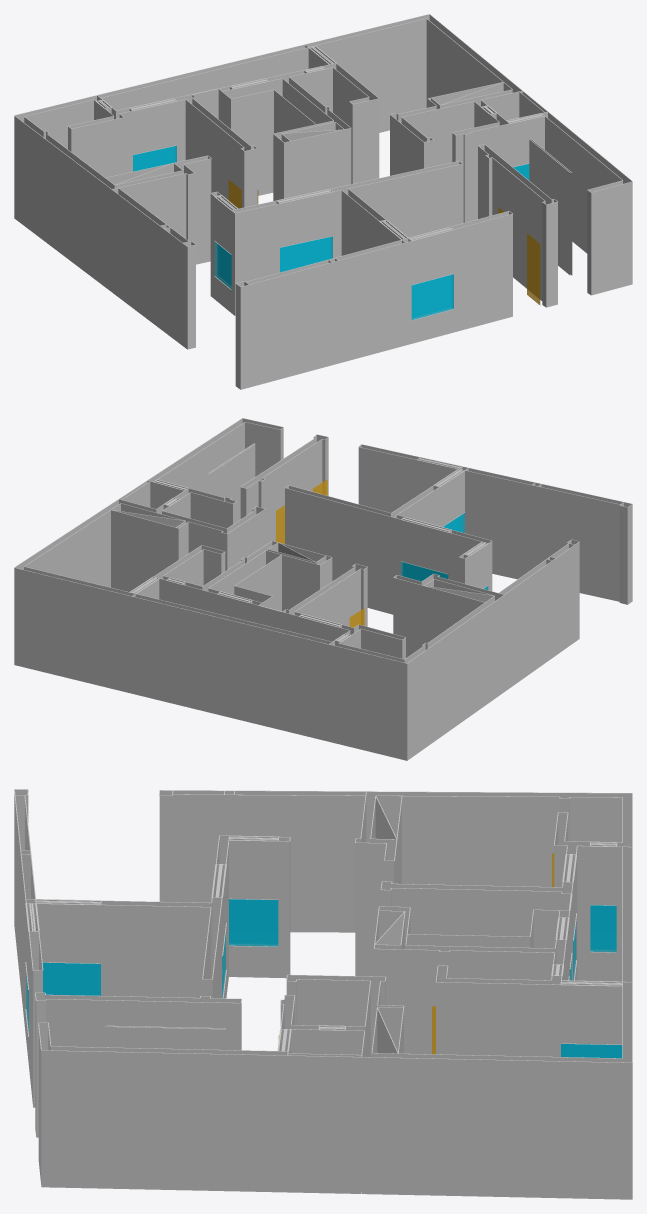
The model's file is b6c97556-37d4-4c1b-b0db-c653a18dad32_no_roof.glb.
The picture shows the model from 3 angles, top to bottom: view 1: azimuth 30°, elevation 25°; view 2: azimuth 150°, elevation 25°; view 3: azimuth 270°, elevation 25°; orthographic projection. The views are drawn at different scales.
Visible parts, largest first — view 1: walls, windows, doors; view 2: walls, windows, doors; view 3: walls, windows.
Boxes of the visible parts, left/top/right/bottom form: walls: left=14, top=14, right=632, bottom=389; windows: left=133, top=145, right=529, bottom=320; doors: left=228, top=179, right=540, bottom=305; walls: left=14, top=418, right=632, bottom=760; windows: left=401, top=513, right=488, bottom=589; doors: left=276, top=479, right=364, bottom=627; walls: left=14, top=789, right=632, bottom=1199; windows: left=26, top=899, right=622, bottom=1058.
Size of the model in its own units: 15.01 by 3.5 by 14.34.
